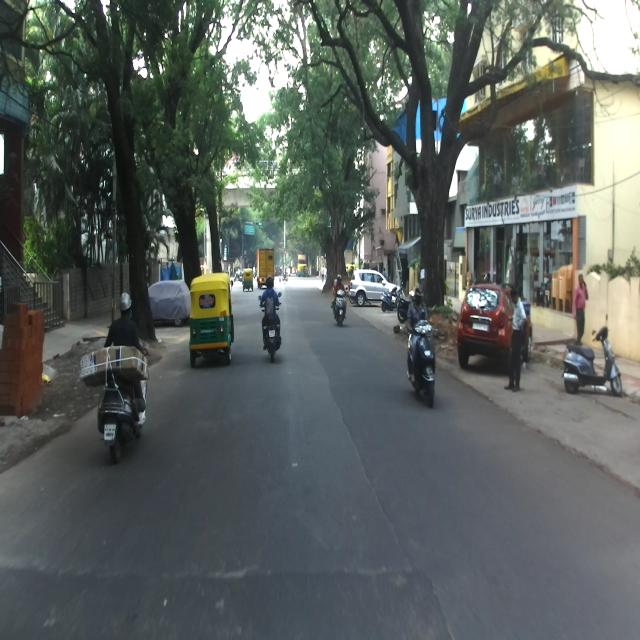auto ahead at: (185, 273, 233, 365)
motorcycle ahead at: (79, 344, 150, 473), (562, 321, 626, 411), (404, 319, 442, 414)
person ahead at: (507, 283, 532, 402)
